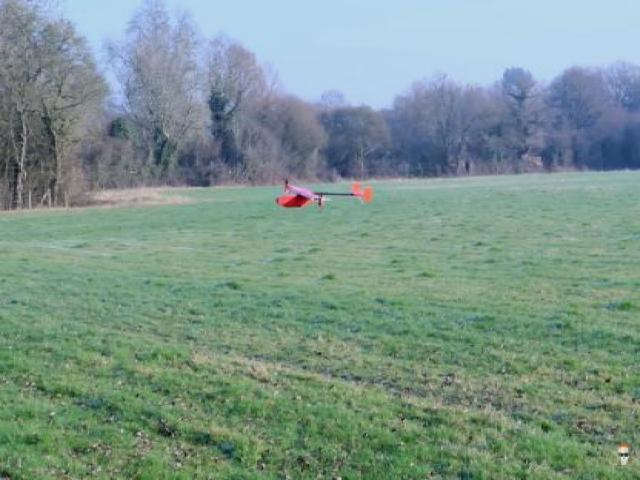uav: (272, 179, 373, 210)
